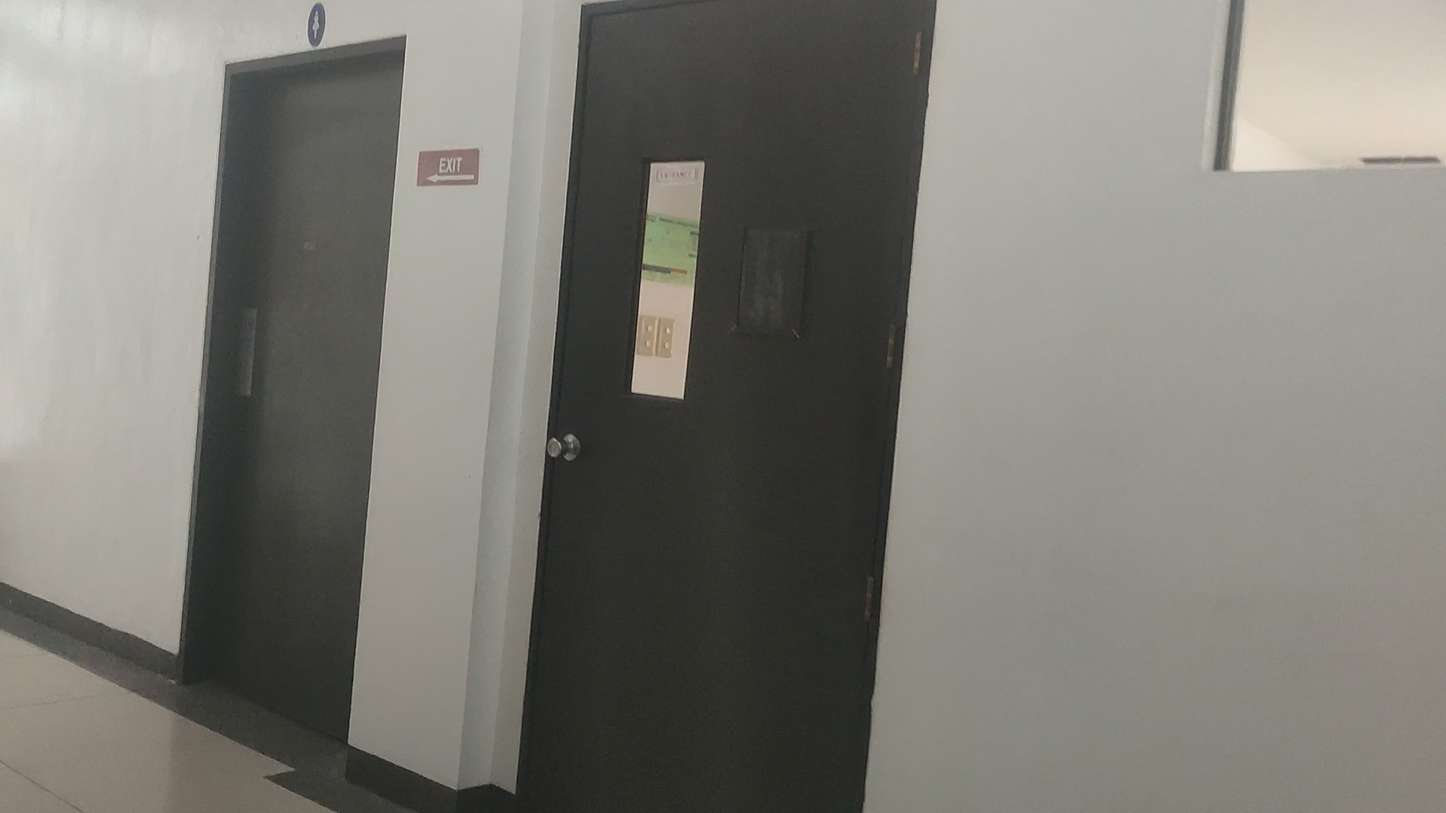door: (516, 0, 938, 813), (173, 36, 405, 747)
